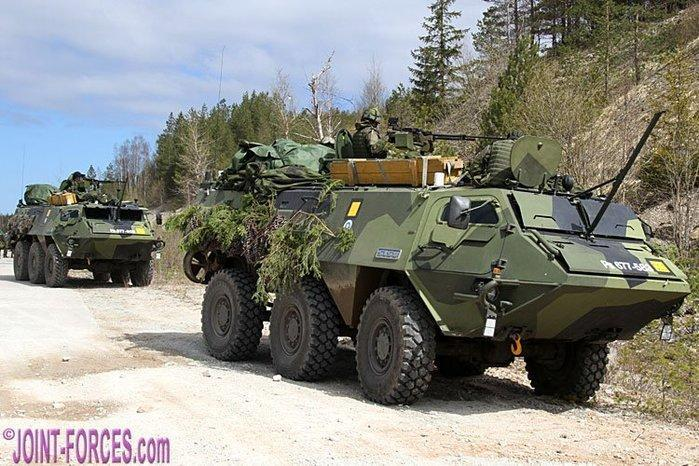MIL_IFV: (183, 135, 691, 410), (6, 177, 165, 288)
